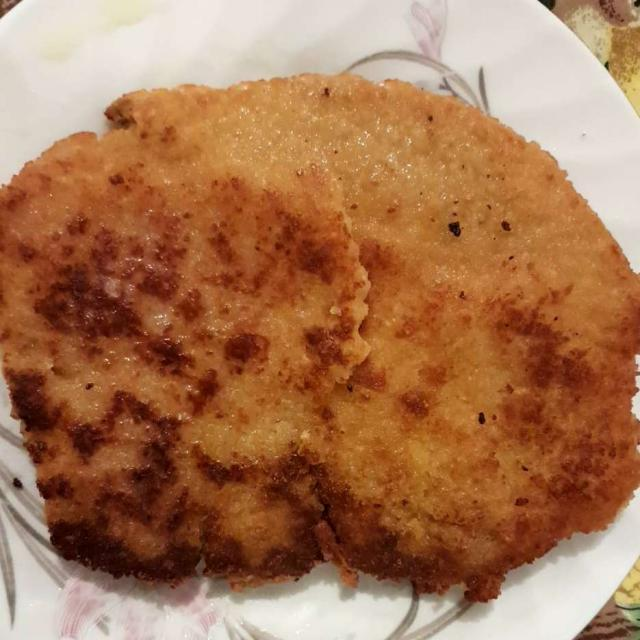breadcrumbs-unspiced: (11, 80, 634, 585)
pork-escalope: (4, 77, 629, 599)
